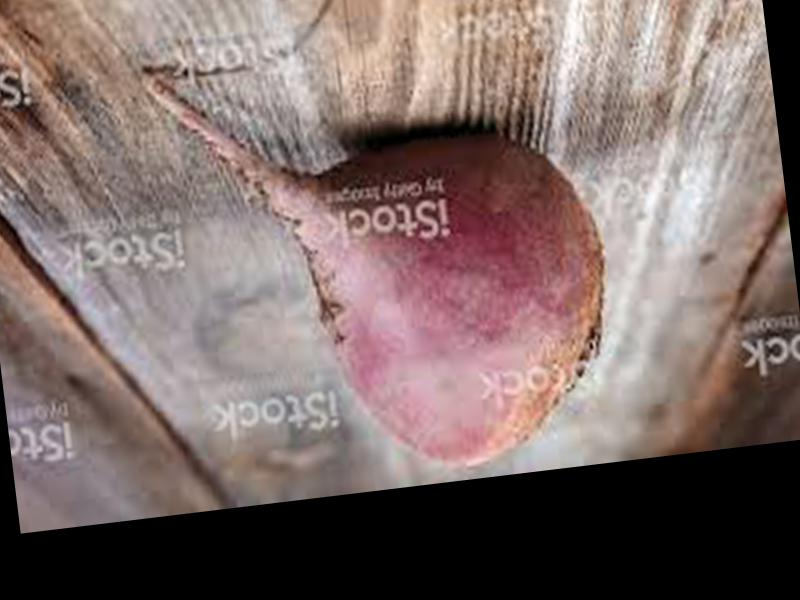Beet: (137, 20, 625, 499)
